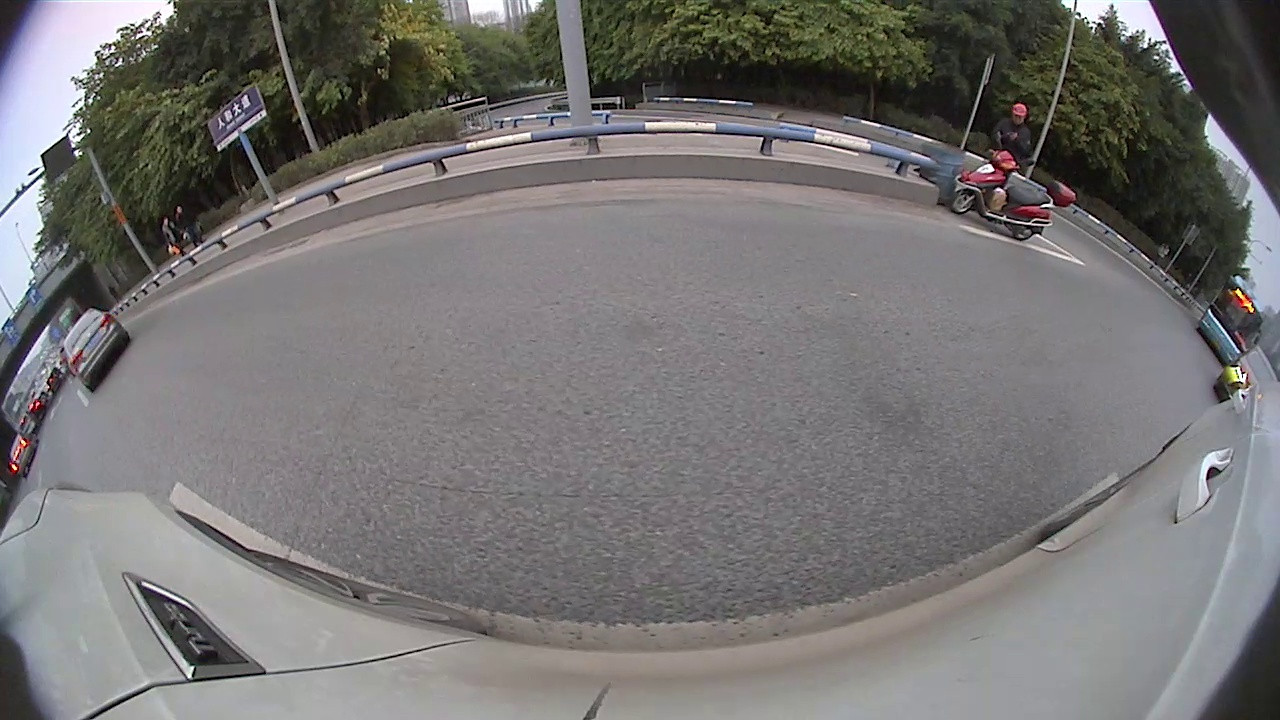bus: (1196, 272, 1267, 368)
car: (61, 306, 132, 394), (1212, 343, 1278, 407), (8, 430, 40, 478)
person: (995, 101, 1033, 179), (176, 204, 204, 245), (160, 216, 186, 257)
rider: (949, 147, 1079, 242)
